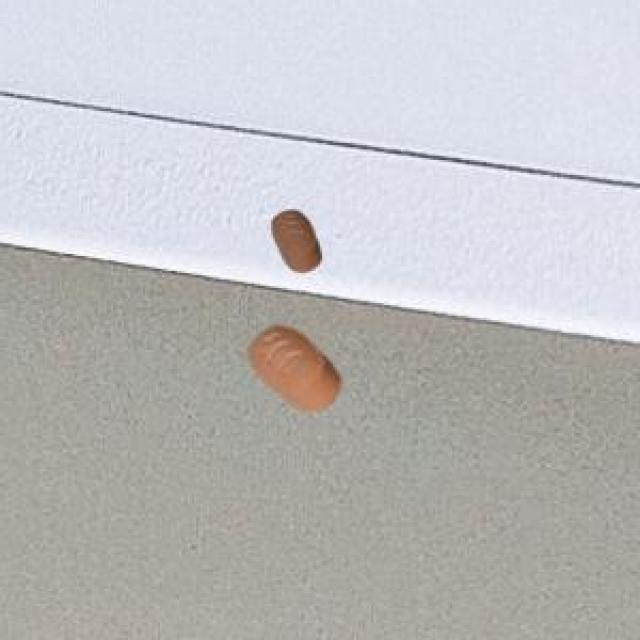Biogesic: (222, 318, 358, 440), (264, 198, 336, 290)
